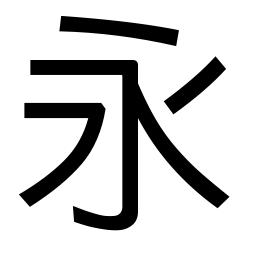D: (57, 13, 181, 48)
HSZ: (107, 58, 142, 83)
Hs: (29, 58, 81, 77)
Ne: (203, 182, 232, 211)
PNc: (141, 97, 185, 133)
PZe: (18, 181, 44, 210)
Ps: (197, 55, 229, 83)
SG: (69, 200, 140, 234)
Sm: (119, 135, 142, 175)
TPZ: (77, 101, 107, 142)
Ts: (22, 100, 56, 121)
